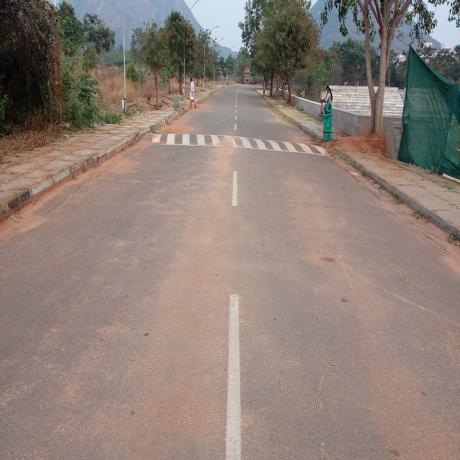Speed Bump: (150, 129, 328, 154)
